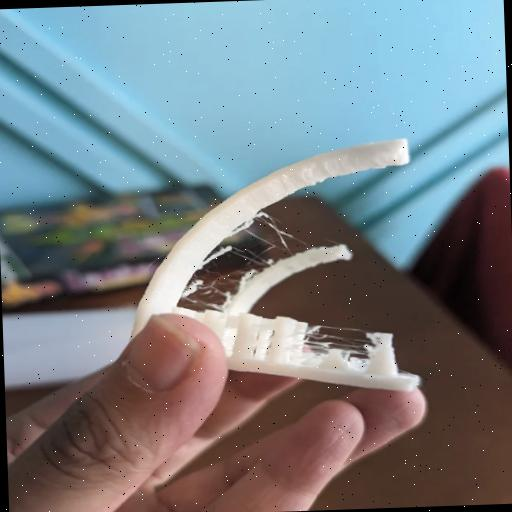stringing: (182, 212, 313, 309), (310, 323, 384, 355)
